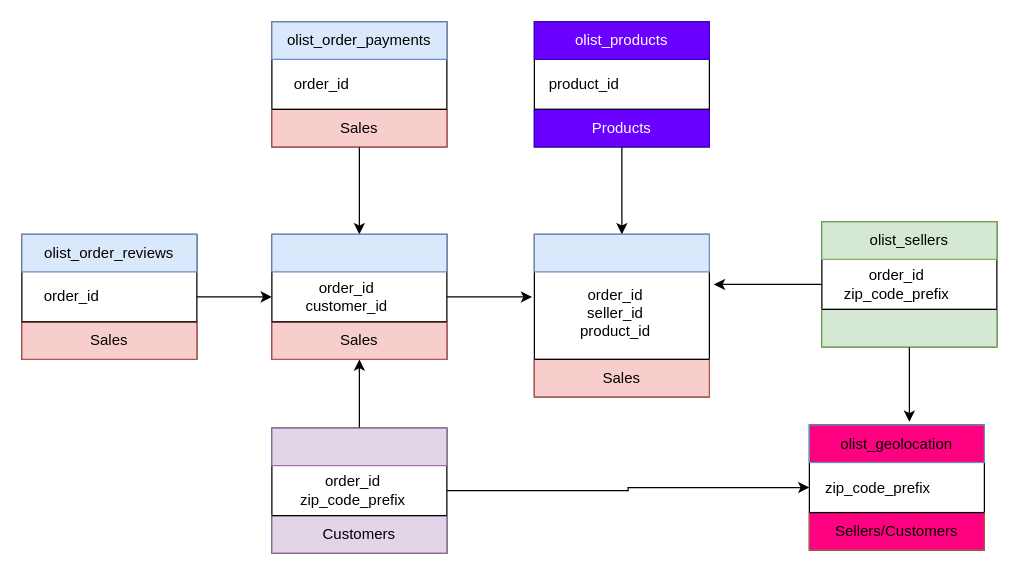
The diagram is 1020 pixels wide and 575 high, and some of its shapes have lost their labels. Each missing label, with the box of its shape:
olist_customers: (271, 427, 447, 466)
olist_order_items: (533, 233, 709, 272)
olist_orders: (271, 233, 447, 272)
Sellers: (821, 308, 997, 347)
